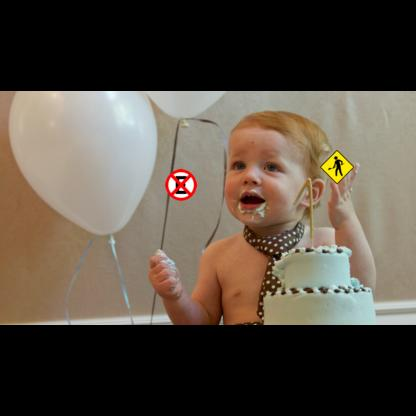A-24: (320, 150, 354, 184)
R-6c: (165, 169, 197, 201)
